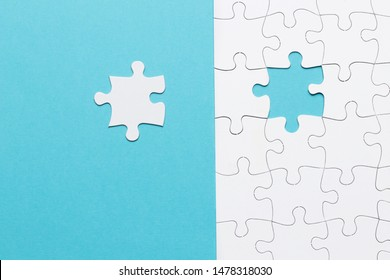puzzle piece: (88, 52, 182, 147)
